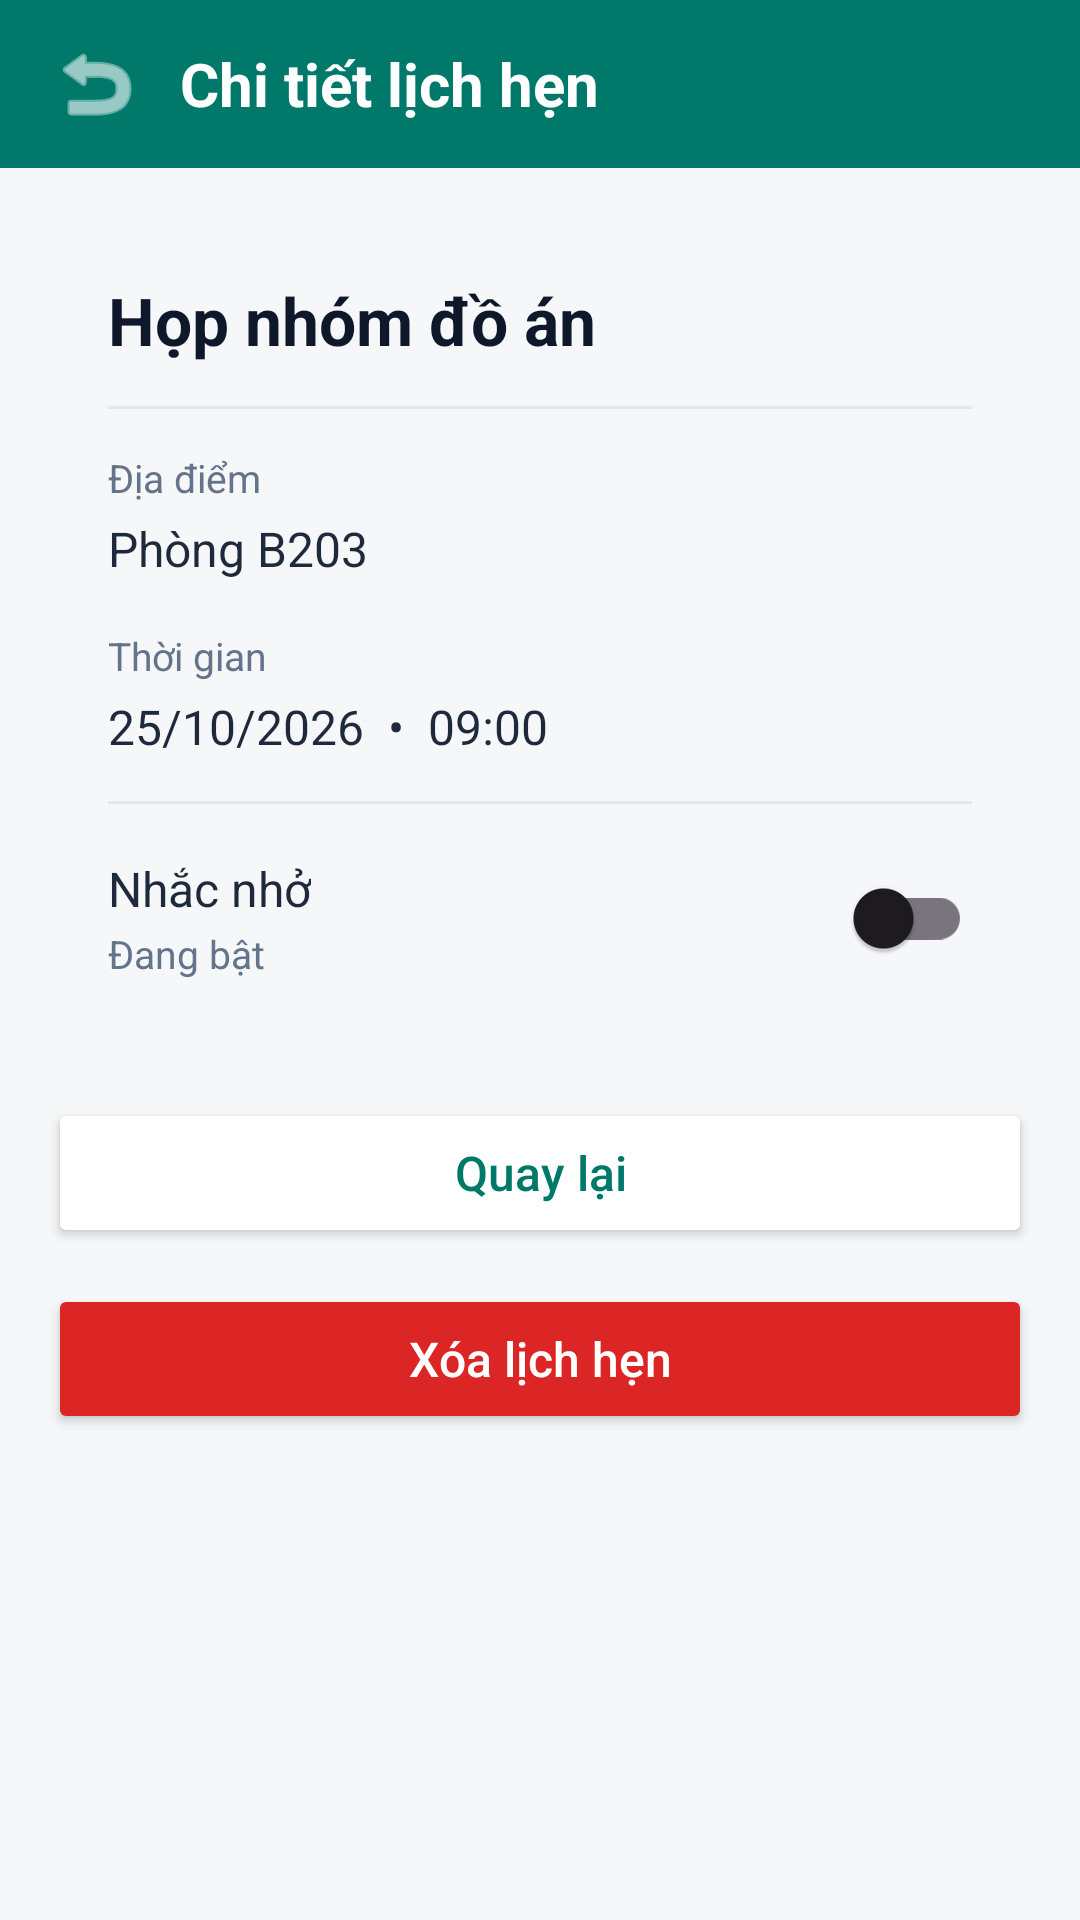

Named icons in this screenshot (1080×1920) and their bounding boxes, (x1, y1, x2, y2):
revert: (63, 53, 132, 116)
